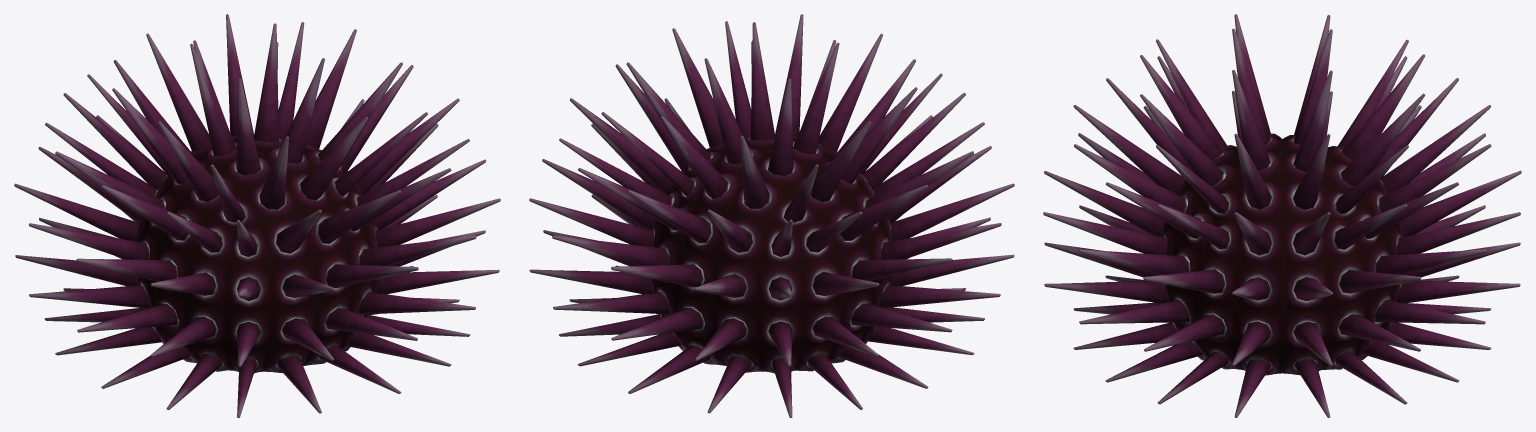
File: SeaUrchin_S.fbx
3 renders of one model, left to right at view 1: azimuth 30°, elevation 25°; view 2: azimuth 150°, elevation 25°; view 3: azimuth 270°, elevation 25°, orthographic.
Parts seen in each view (by area): view 1: SeaUrchin_S_LOD0; view 2: SeaUrchin_S_LOD0; view 3: SeaUrchin_S_LOD0.
Boxes of the visible parts, x1=… form: SeaUrchin_S_LOD0: x1=14, y1=14, x2=500, y2=417; SeaUrchin_S_LOD0: x1=529, y1=14, x2=1014, y2=417; SeaUrchin_S_LOD0: x1=1043, y1=14, x2=1521, y2=417.
Size of what is drawn, in the model's own units: 0.2363 by 0.2363 by 0.1568.
